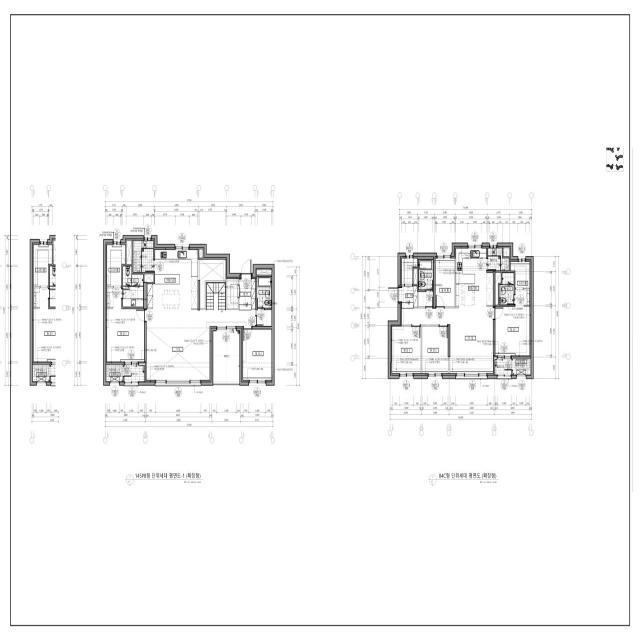space_balconi: (213, 331, 240, 382), (133, 241, 153, 272), (488, 248, 509, 270), (124, 366, 144, 382), (495, 359, 511, 375)
space_bedroom: (107, 287, 144, 362), (495, 307, 530, 356), (243, 329, 272, 380), (392, 326, 421, 373), (422, 326, 448, 373)
space_dressroom: (107, 245, 125, 286), (511, 262, 530, 288)
space_front: (239, 279, 255, 310), (402, 286, 417, 308)
space_kitchen: (147, 250, 198, 309), (456, 248, 493, 307)
space_living_room: (146, 309, 255, 380), (402, 307, 493, 373)
space_other: (200, 260, 226, 308), (435, 258, 455, 307), (206, 282, 226, 310), (402, 258, 417, 285), (227, 279, 238, 309), (515, 289, 530, 306), (257, 310, 272, 326), (418, 292, 433, 307), (495, 273, 501, 305), (127, 241, 132, 264), (144, 274, 154, 282), (257, 270, 272, 275), (503, 248, 509, 256), (414, 269, 417, 284), (199, 249, 203, 258)
space_outdoor_room: (513, 358, 531, 375), (106, 365, 123, 382)
space_toilet: (123, 266, 143, 307), (499, 273, 514, 305), (257, 277, 271, 308), (419, 260, 433, 290)
